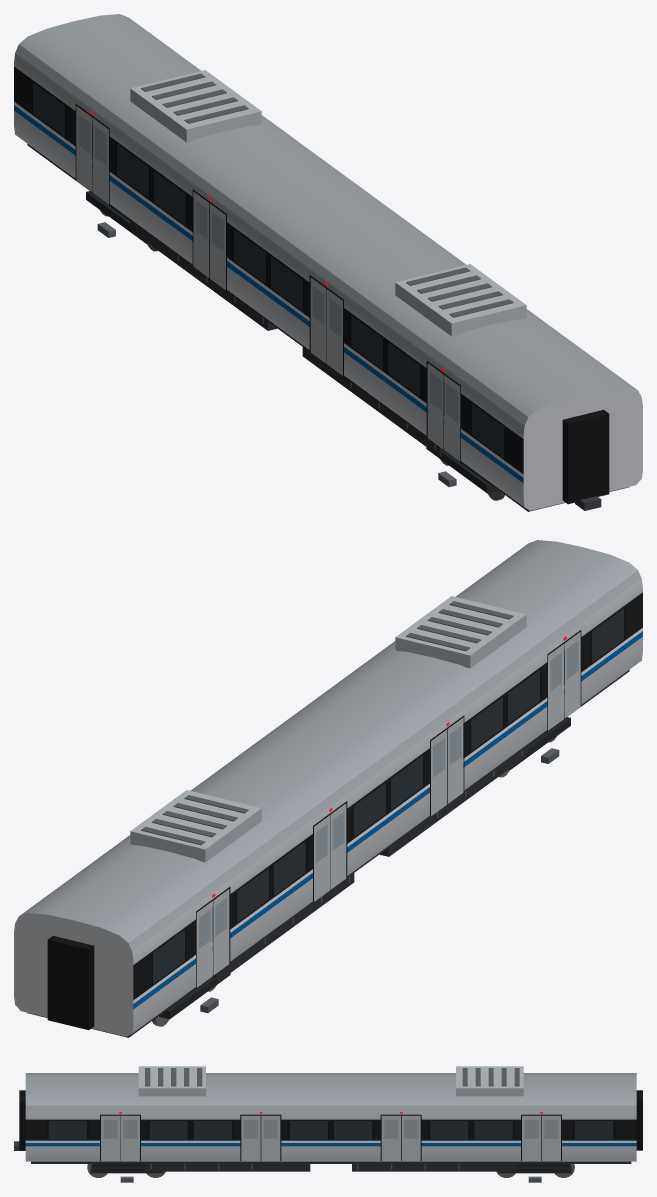
Rendered from taipei-hc-middle.glb.
3 views of the same model, one above another, from view 1: azimuth 30°, elevation 25°; view 2: azimuth 150°, elevation 25°; view 3: azimuth 270°, elevation 25° (orthographic). The views are drawn at different scales.
Parts seen in each view (by area): view 1: TaipeiHC_Middle; view 2: TaipeiHC_Middle; view 3: TaipeiHC_Middle.
Boxes of the visible parts, x1,y1,x2,y2 form: TaipeiHC_Middle: (14,14,642,511); TaipeiHC_Middle: (14,540,642,1037); TaipeiHC_Middle: (14,1066,642,1182).
Bounding box in the file's own units: 3.26 × 3.91 × 24.2.
